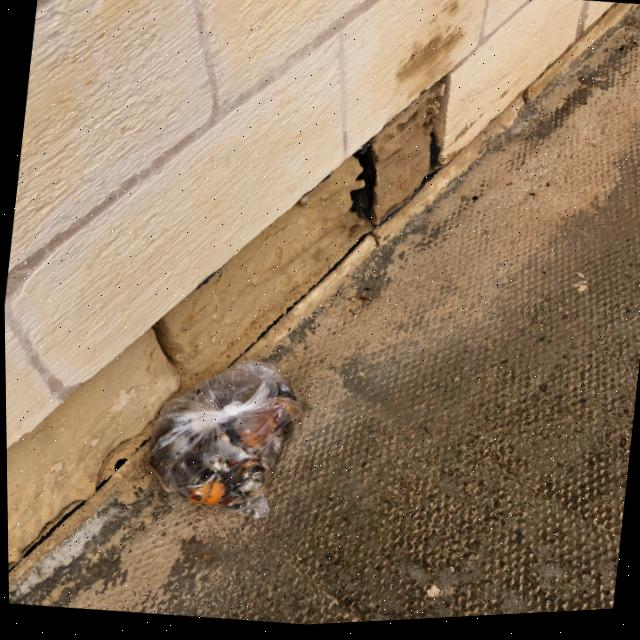Organic Waste -White Bag-: (130, 343, 311, 550)
